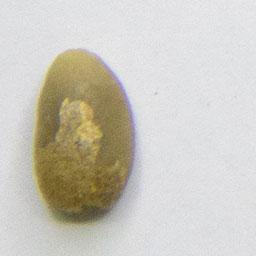longberry: (30, 43, 140, 222)
